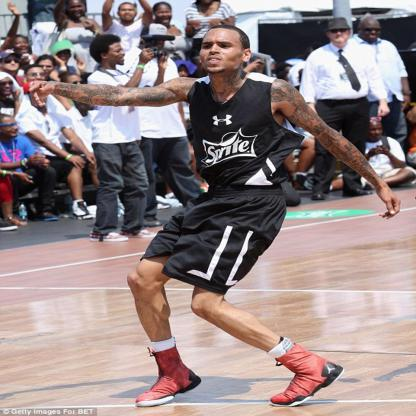face: (201, 34, 243, 73), (106, 45, 125, 66), (68, 1, 87, 20), (330, 26, 351, 43), (362, 23, 381, 41), (147, 36, 165, 54), (27, 70, 46, 87), (3, 53, 20, 71), (2, 119, 18, 137), (368, 123, 384, 140), (157, 8, 173, 24), (2, 76, 14, 97), (120, 6, 136, 21), (38, 62, 53, 78), (69, 78, 83, 94), (15, 38, 29, 53), (175, 66, 189, 80), (281, 68, 293, 82), (57, 52, 70, 64), (397, 99, 408, 112)
